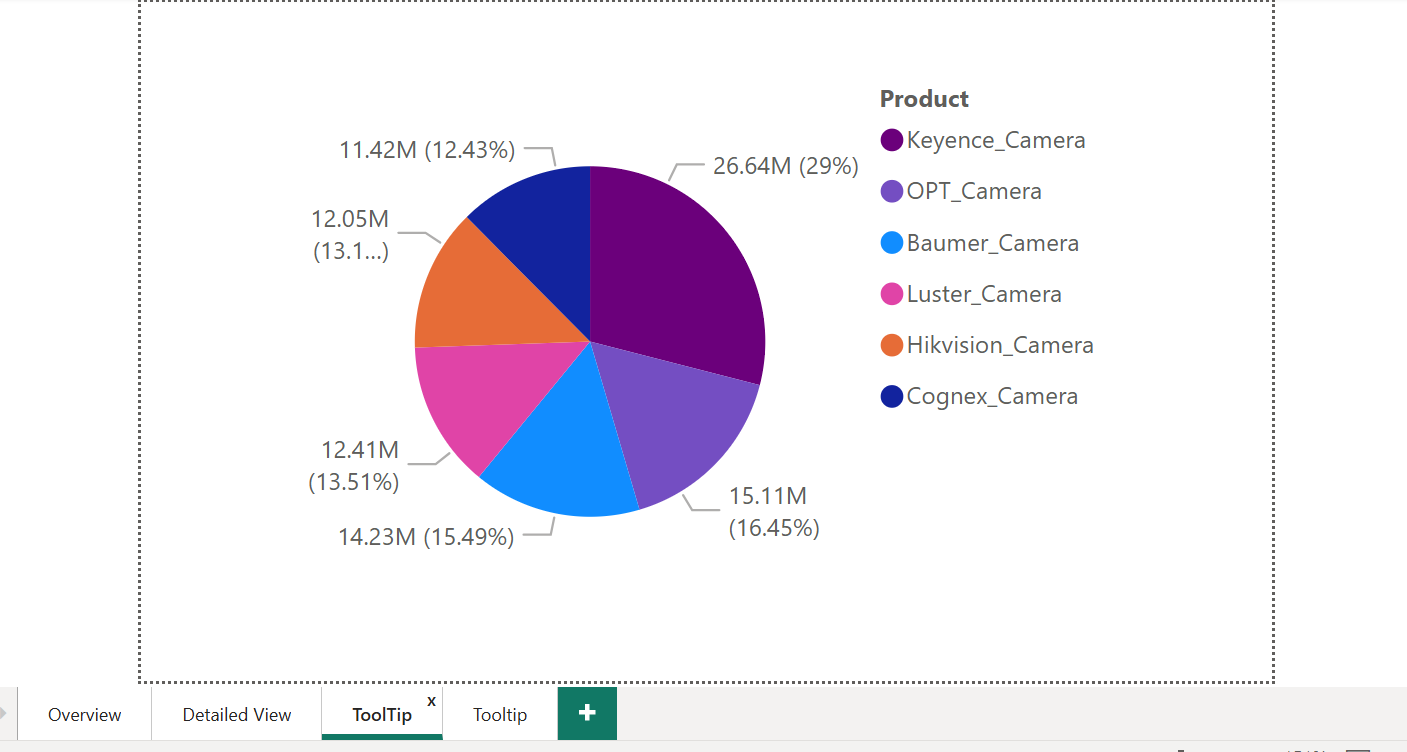

The dashboard page shown, as its layout file describes it:
{"tool":"powerbi","page":{"name":"ToolTip","canvas":[500,300],"ordinal":2},"visuals":[{"type":"pieChart","fields":{"Category":["Camera_Company.Product"],"Y":["Measure_.Net_Sales_YTD"]},"box":[64.9,30.1,370.3,239.7],"z":0}]}

Visuals, with their boxes on the page's 500x300 design canvas (x1, y1, x2, y2). These are canvas units, not pixel positions in the 1407x752 screenshot, which may show the page scaled, cropped or inside an application window:
pieChart - Camera_Company.Product x Measure_.Net_Sales_YTD: (left=65, top=30, right=435, bottom=270)
